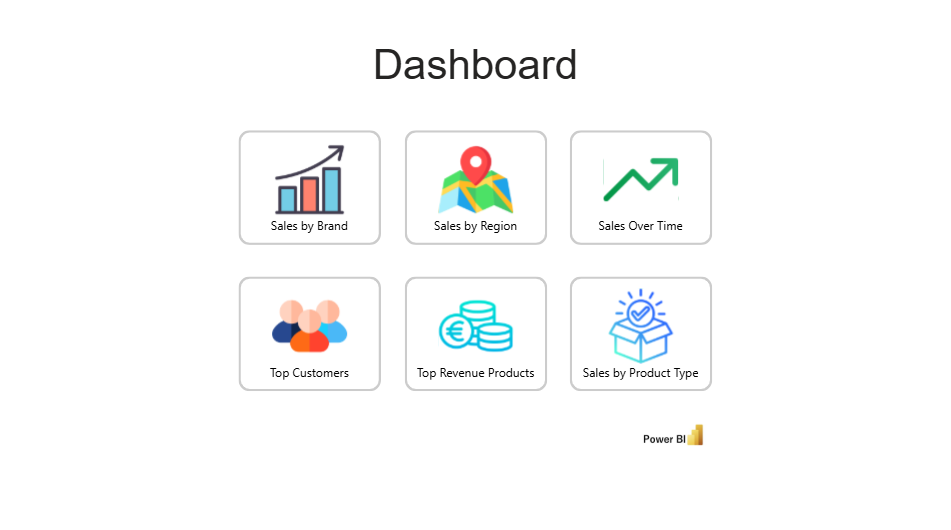

This screenshot's page, from the dashboard's own definition file:
{"tool":"powerbi","page":{"name":"Dashboard","canvas":[1280,720],"ordinal":1},"visuals":[{"type":"actionButton","box":[323.8,181.1,190,153],"z":0},{"type":"textbox","box":[418.5,56.3,441.9,85.1],"z":1000},{"type":"actionButton","box":[544.8,181.1,190,153],"z":2000},{"type":"actionButton","box":[765.7,181.1,190,153],"z":3000},{"type":"actionButton","box":[323.8,377.4,190,153],"z":4000},{"type":"actionButton","box":[544.8,377.4,190,153],"z":5000},{"type":"actionButton","box":[765.7,377.4,190,153],"z":6000},{"type":"image","box":[849.4,558.5,105.7,65.9],"z":7000}]}

Visuals, with their boxes in screenshot pixels (x1, y1, x2, y2), scaled from the page's 1280x720 canvas onto the 951x530 screenshot:
actionButton: detection(241, 133, 382, 246)
textbox: detection(311, 41, 639, 104)
actionButton: detection(405, 133, 546, 246)
actionButton: detection(569, 133, 710, 246)
actionButton: detection(241, 278, 382, 390)
actionButton: detection(405, 278, 546, 390)
actionButton: detection(569, 278, 710, 390)
image: detection(631, 411, 710, 460)
